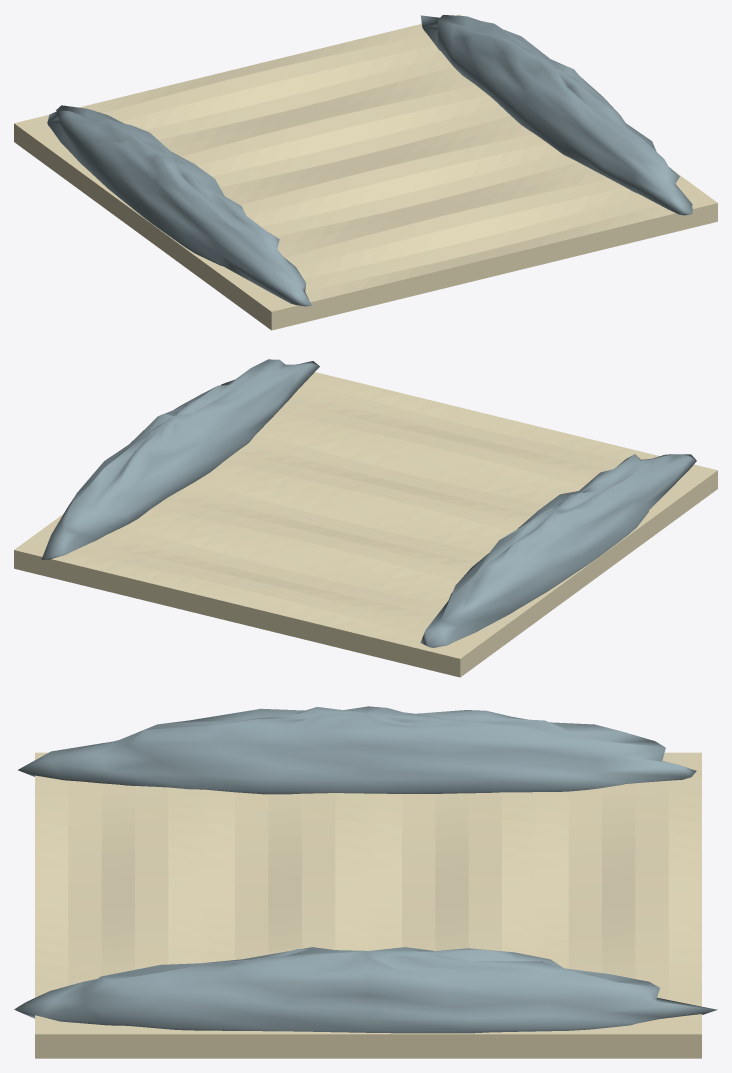
File: underwater-reef-worlds-sand-channel-4acc808d__7052.glb
3 views of the same model, one above another, from view 1: azimuth 30°, elevation 25°; view 2: azimuth 150°, elevation 25°; view 3: azimuth 270°, elevation 25° (orthographic). The views are drawn at different scales.
Visible parts, largest first — view 1: sand-channel; view 2: sand-channel; view 3: sand-channel.
Boxes of the visible parts, bbox=[...] form: sand-channel: bbox=[14, 14, 717, 330]; sand-channel: bbox=[14, 359, 717, 677]; sand-channel: bbox=[14, 706, 717, 1058].
Bounding box in the file's own units: 4.01 × 0.5859 × 4.22.
